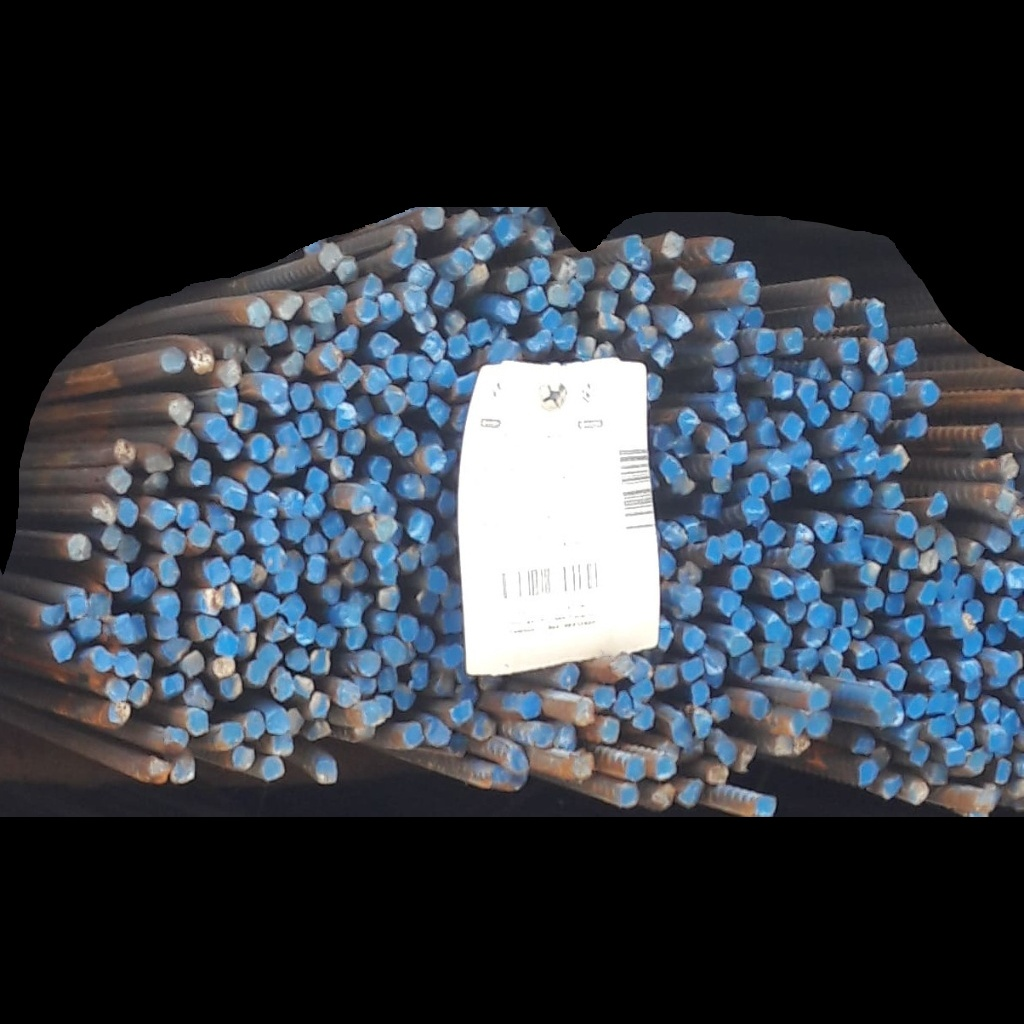dipstick: (114, 615, 146, 644), (442, 247, 473, 275), (241, 343, 273, 370), (806, 600, 835, 629), (423, 719, 452, 747), (370, 539, 400, 566), (494, 214, 520, 245), (594, 308, 626, 333), (289, 381, 313, 414), (787, 539, 814, 568), (715, 389, 741, 419), (280, 516, 310, 542), (185, 682, 215, 708), (49, 631, 73, 663), (318, 342, 345, 370), (666, 720, 694, 747), (321, 287, 350, 313), (804, 466, 833, 492), (421, 331, 446, 361), (274, 424, 304, 449), (629, 271, 653, 302), (470, 711, 493, 743), (399, 286, 426, 313), (891, 339, 918, 366), (407, 263, 435, 289), (378, 639, 406, 665), (198, 586, 224, 614), (160, 347, 189, 372), (866, 394, 891, 423), (65, 535, 94, 560), (215, 526, 244, 551), (806, 710, 831, 739), (450, 210, 480, 234), (377, 297, 407, 321), (410, 511, 434, 541), (706, 237, 733, 263), (670, 271, 697, 297), (318, 381, 344, 408), (106, 466, 133, 492), (103, 564, 130, 590), (264, 375, 291, 401), (837, 335, 862, 363), (840, 361, 865, 389), (805, 401, 833, 426), (170, 433, 198, 458), (115, 499, 139, 528), (145, 505, 174, 529), (813, 516, 837, 545), (894, 510, 918, 539), (368, 332, 398, 355), (239, 711, 262, 741), (729, 562, 752, 592), (144, 449, 174, 472), (358, 647, 380, 678), (260, 319, 286, 345), (652, 339, 678, 365), (202, 558, 228, 584), (104, 674, 130, 700), (471, 233, 496, 260), (769, 374, 794, 401), (407, 352, 432, 379), (337, 529, 362, 556), (390, 681, 415, 708), (678, 627, 705, 652), (768, 572, 793, 599), (702, 649, 727, 676), (162, 728, 189, 753), (274, 295, 302, 319), (519, 287, 547, 311), (781, 412, 805, 440), (702, 430, 726, 458), (423, 448, 447, 476), (194, 613, 222, 637), (248, 434, 271, 463), (201, 418, 230, 441), (702, 535, 725, 564), (432, 359, 455, 388), (291, 324, 313, 354), (157, 555, 179, 585), (250, 522, 280, 544), (866, 343, 888, 373), (305, 299, 336, 320), (551, 324, 577, 349), (677, 407, 702, 433), (183, 707, 209, 732), (370, 518, 396, 543), (676, 588, 702, 613), (244, 299, 268, 326), (501, 268, 528, 292), (628, 305, 655, 329), (384, 352, 408, 379), (132, 568, 156, 595), (265, 705, 289, 732), (679, 780, 703, 807), (570, 753, 594, 780), (881, 699, 905, 726), (828, 278, 851, 306), (717, 311, 740, 339), (241, 467, 269, 490), (397, 474, 425, 497), (113, 650, 135, 679), (403, 381, 428, 406), (214, 630, 239, 655), (342, 561, 367, 586), (516, 691, 541, 716), (685, 680, 710, 705), (41, 603, 66, 628), (389, 244, 415, 268), (189, 346, 213, 372), (128, 681, 152, 707), (312, 760, 338, 784), (373, 537, 397, 563), (260, 545, 284, 571), (284, 646, 310, 670), (281, 595, 307, 619), (423, 571, 449, 595), (412, 628, 436, 654), (271, 674, 295, 700), (439, 644, 463, 670), (589, 684, 615, 708), (659, 453, 683, 479), (926, 662, 950, 688), (318, 241, 341, 268), (744, 495, 767, 522), (242, 661, 269, 684), (234, 404, 257, 431), (925, 491, 948, 518), (698, 496, 726, 518), (397, 427, 418, 456), (150, 616, 179, 637), (466, 320, 490, 345), (427, 399, 451, 424), (173, 500, 197, 525), (162, 529, 187, 553), (170, 398, 194, 423), (221, 432, 241, 462), (620, 755, 645, 779), (781, 597, 806, 621), (715, 589, 739, 614), (77, 618, 101, 643), (662, 523, 687, 547), (756, 421, 781, 445), (547, 282, 573, 305), (189, 461, 212, 487), (308, 692, 331, 718), (416, 587, 439, 613), (670, 312, 693, 338), (305, 555, 327, 582), (529, 255, 550, 283), (372, 454, 393, 482), (447, 334, 471, 358), (257, 644, 281, 668), (361, 272, 384, 297), (364, 368, 389, 391), (652, 754, 677, 777), (655, 665, 680, 688), (761, 644, 784, 669), (937, 602, 962, 625), (221, 486, 246, 509), (273, 569, 298, 592), (787, 440, 810, 465), (418, 209, 444, 231), (433, 279, 455, 305), (622, 236, 644, 262), (154, 594, 180, 616), (261, 755, 283, 781), (181, 650, 203, 676), (256, 592, 278, 618), (615, 779, 637, 805), (759, 522, 785, 544), (117, 535, 139, 561), (635, 322, 656, 349), (281, 487, 302, 514), (599, 716, 620, 743), (928, 716, 955, 737), (162, 638, 189, 659), (354, 296, 377, 320), (812, 305, 835, 329), (540, 307, 563, 331), (254, 493, 278, 516), (375, 586, 399, 609), (681, 656, 705, 679), (744, 695, 768, 718), (678, 560, 701, 584), (834, 424, 858, 447), (145, 760, 169, 783), (744, 398, 768, 421), (692, 708, 711, 737), (981, 424, 1003, 449), (89, 649, 114, 671), (752, 795, 777, 817), (830, 626, 852, 651), (882, 484, 904, 509), (852, 450, 874, 475), (529, 229, 555, 250), (339, 360, 360, 386), (331, 455, 352, 481), (173, 759, 199, 780), (740, 539, 761, 565), (89, 591, 110, 617), (133, 652, 154, 678), (661, 231, 681, 258), (223, 673, 243, 700), (802, 626, 829, 646), (891, 444, 911, 471), (1004, 709, 1024, 736), (221, 722, 244, 745), (295, 412, 318, 435), (736, 655, 759, 678), (850, 616, 873, 639), (217, 584, 240, 607), (333, 681, 355, 705), (293, 618, 315, 642), (855, 763, 877, 787), (768, 621, 790, 645), (884, 593, 906, 617), (909, 638, 931, 662), (283, 550, 305, 574), (737, 740, 753, 773), (974, 787, 996, 811), (608, 263, 629, 288), (714, 341, 735, 366), (373, 416, 398, 437), (958, 661, 983, 682), (489, 342, 514, 363), (723, 529, 741, 558), (839, 598, 857, 627), (362, 702, 388, 722), (852, 480, 872, 506), (885, 664, 905, 690), (741, 279, 760, 306), (407, 661, 426, 688), (576, 697, 595, 724), (573, 259, 595, 282), (109, 702, 131, 725), (229, 559, 252, 581), (235, 607, 258, 629), (840, 540, 862, 563), (321, 512, 343, 535), (306, 720, 329, 742), (985, 622, 1007, 645), (984, 729, 1007, 751), (454, 371, 477, 393), (921, 379, 939, 407), (782, 328, 803, 352), (305, 469, 329, 490), (352, 488, 376, 509), (628, 681, 652, 702), (807, 685, 831, 706), (731, 609, 755, 630), (982, 568, 1003, 592), (994, 490, 1018, 511), (207, 510, 232, 530), (935, 536, 955, 561), (884, 775, 904, 800), (234, 743, 253, 769), (559, 663, 578, 689), (997, 453, 1016, 479), (909, 741, 928, 767), (712, 696, 731, 722), (616, 693, 635, 719), (287, 707, 304, 736), (558, 722, 576, 749), (317, 624, 339, 646), (993, 655, 1015, 677), (797, 580, 819, 602), (867, 301, 888, 324), (755, 330, 776, 353), (748, 471, 771, 492), (303, 495, 324, 518), (339, 602, 362, 623), (343, 626, 366, 647), (876, 640, 899, 661), (162, 673, 183, 696), (989, 529, 1010, 552), (751, 357, 774, 378), (343, 431, 363, 455), (398, 613, 418, 637), (532, 725, 556, 745), (925, 764, 949, 784), (495, 302, 519, 322), (634, 704, 654, 728), (905, 413, 927, 434), (770, 452, 791, 474), (281, 355, 303, 376), (798, 647, 819, 669), (888, 569, 909, 591), (272, 451, 294, 472), (321, 580, 342, 602), (713, 368, 736, 388), (504, 750, 527, 770), (964, 599, 984, 622), (928, 691, 948, 714), (955, 702, 975, 725), (272, 733, 292, 756), (613, 652, 633, 675), (439, 492, 456, 519), (799, 379, 818, 403), (402, 722, 421, 746), (994, 759, 1013, 783), (399, 548, 418, 572), (846, 410, 865, 434), (873, 537, 891, 562), (919, 581, 937, 606), (832, 384, 850, 409), (999, 597, 1017, 622), (311, 648, 329, 673), (489, 767, 507, 792), (219, 389, 236, 415), (65, 595, 86, 616), (449, 700, 470, 721), (809, 360, 831, 380), (714, 742, 736, 762), (862, 588, 884, 608), (822, 651, 842, 673), (956, 729, 976, 751), (376, 493, 396, 515), (100, 528, 122, 548), (855, 649, 878, 668), (965, 542, 984, 565), (116, 440, 135, 463), (916, 525, 935, 548), (305, 534, 329, 552), (920, 550, 938, 574), (983, 697, 1001, 721), (378, 667, 396, 691), (209, 658, 234, 675), (886, 376, 907, 396), (899, 546, 919, 567), (852, 734, 873, 754), (842, 520, 862, 541), (743, 308, 764, 328), (728, 442, 749, 462), (869, 320, 889, 341), (725, 633, 747, 652), (861, 562, 880, 584), (907, 695, 926, 717), (653, 426, 672, 448), (909, 780, 927, 803), (711, 455, 731, 475), (421, 541, 437, 566), (707, 763, 728, 782), (870, 689, 891, 708), (958, 575, 976, 597), (435, 673, 453, 695), (660, 550, 674, 578), (965, 633, 982, 656), (575, 337, 592, 360), (647, 374, 662, 400), (770, 480, 789, 500), (150, 472, 170, 491), (468, 265, 488, 284), (790, 712, 808, 733), (907, 615, 924, 637), (438, 533, 455, 555), (675, 436, 694, 455), (873, 747, 891, 767), (458, 683, 478, 701), (969, 753, 986, 774), (875, 456, 891, 478), (661, 619, 673, 648), (963, 682, 982, 700), (736, 261, 755, 279), (633, 660, 651, 679), (937, 579, 954, 599), (946, 748, 966, 765), (356, 677, 376, 694), (508, 769, 525, 789), (941, 559, 958, 578), (776, 734, 791, 755), (426, 475, 440, 496), (795, 735, 811, 753), (253, 564, 264, 587)
